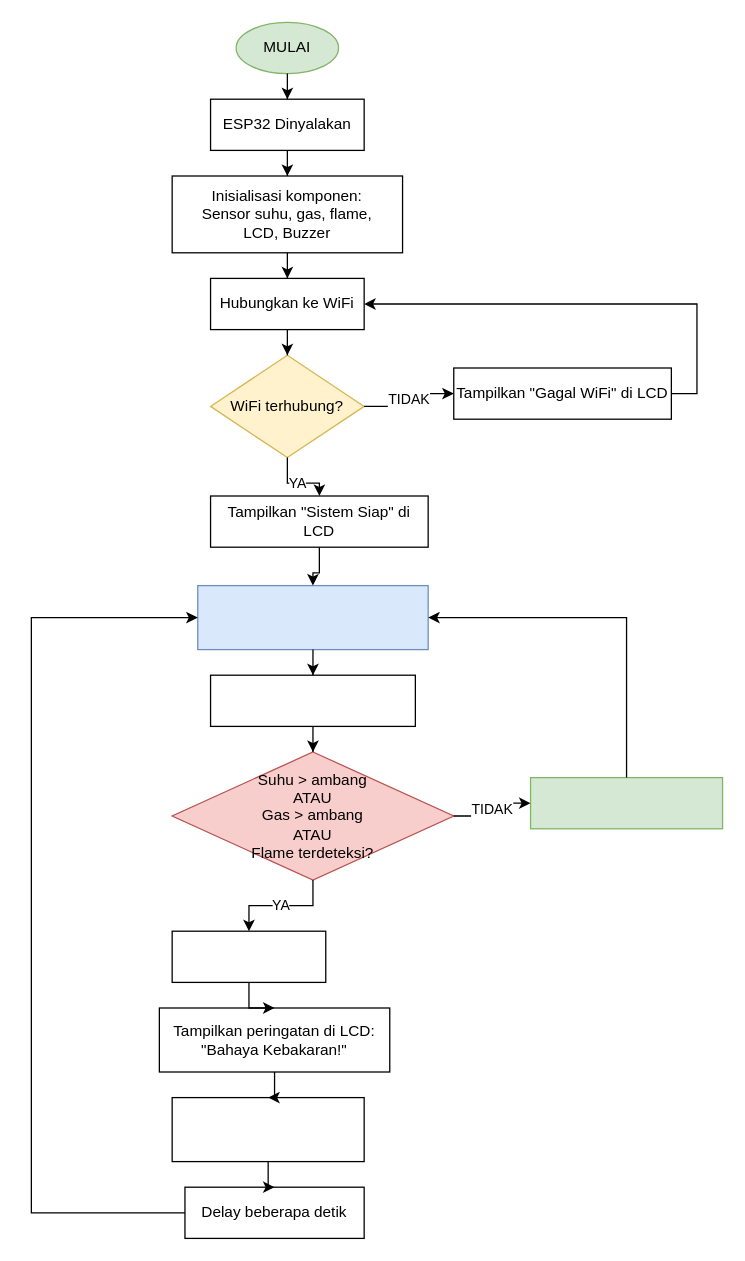
Image size: 745x1261. Some labels were removed from this diagram. Each missing label, with the centre of its shape:
Aktifkan Buzzer: point 248,956
Baca sensor: Suhu, Gas, Api (flame): point 312,617
Bandingkan dengan batas ambang: point 312,700
Kirim notifikasi ke Telegram: point 267,1129
Tampilkan "Normal" di LCD: point 626,802
